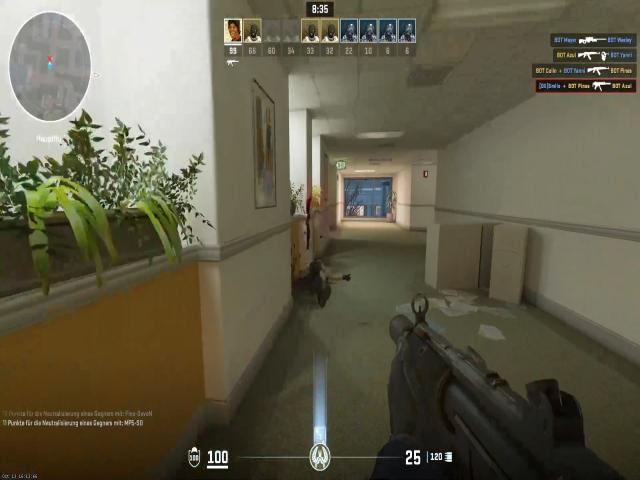Dead: (296, 252, 341, 299)
